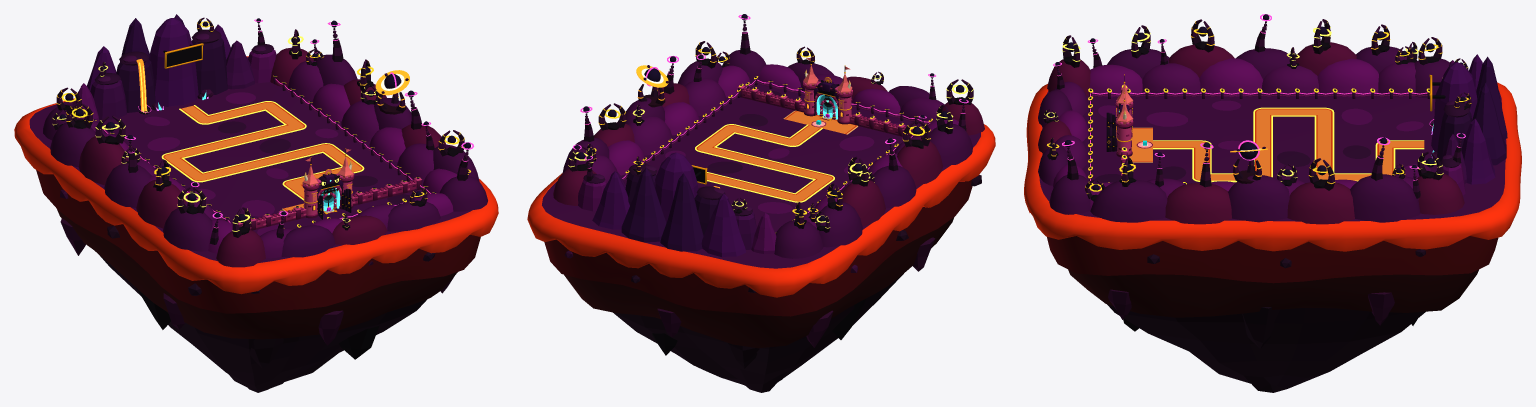
Rendered from black_hole_base.fbx.
The picture shows the model from 3 angles, left to right: view 1: azimuth 30°, elevation 25°; view 2: azimuth 150°, elevation 25°; view 3: azimuth 270°, elevation 25°; orthographic projection. The views are drawn at different scales.
Parts seen in each view (by area): view 1: Base_Cliff, Base_Backdrop, Base_Ground, Base_Trees, Base_Glow, Base_Road, Base_Gate, Base_Dressing, Base_GateTrim; view 2: Base_Cliff, Base_Backdrop, Base_Ground, Base_Trees, Base_Glow, Base_Road, Base_Gate, Base_Dressing, Base_GateTrim; view 3: Base_Cliff, Base_Backdrop, Base_Ground, Base_Trees, Base_Road, Base_Glow, Base_Gate, Base_Dressing, Base_GateTrim.
Part boxes in pixels (x1,y1,x2,y2): Base_Cliff: [14, 56, 498, 392]; Base_Backdrop: [43, 14, 487, 267]; Base_Ground: [29, 57, 471, 262]; Base_Trees: [52, 17, 470, 244]; Base_Glow: [52, 19, 473, 231]; Base_Road: [163, 102, 362, 211]; Base_Gate: [238, 148, 422, 230]; Base_Dressing: [93, 75, 435, 227]; Base_GateTrim: [303, 149, 353, 202]; Base_Cliff: [527, 124, 995, 392]; Base_Backdrop: [553, 50, 984, 258]; Base_Ground: [542, 83, 980, 268]; Base_Trees: [568, 14, 973, 232]; Base_Glow: [568, 15, 973, 228]; Base_Road: [696, 110, 858, 201]; Base_Gate: [737, 57, 917, 137]; Base_Dressing: [623, 76, 931, 232]; Base_GateTrim: [803, 58, 852, 126]; Base_Cliff: [1024, 82, 1521, 392]; Base_Backdrop: [1038, 42, 1507, 224]; Base_Ground: [1039, 90, 1506, 221]; Base_Trees: [1043, 14, 1471, 201]; Base_Road: [1129, 108, 1424, 180]; Base_Glow: [1044, 14, 1471, 193]; Base_Gate: [1106, 74, 1152, 178]; Base_Dressing: [1089, 89, 1429, 184]; Base_GateTrim: [1116, 83, 1151, 147].
Bounding box in the file's own units: 188 × 179 × 244.
